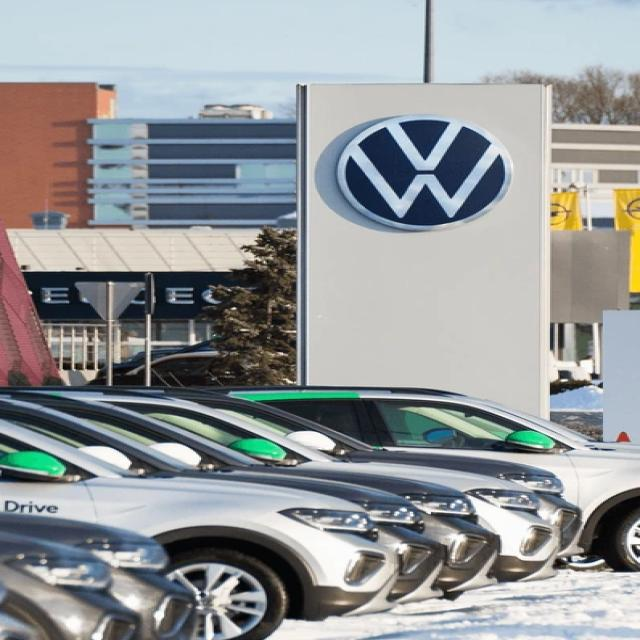wolksvogen: (335, 116, 516, 230)
